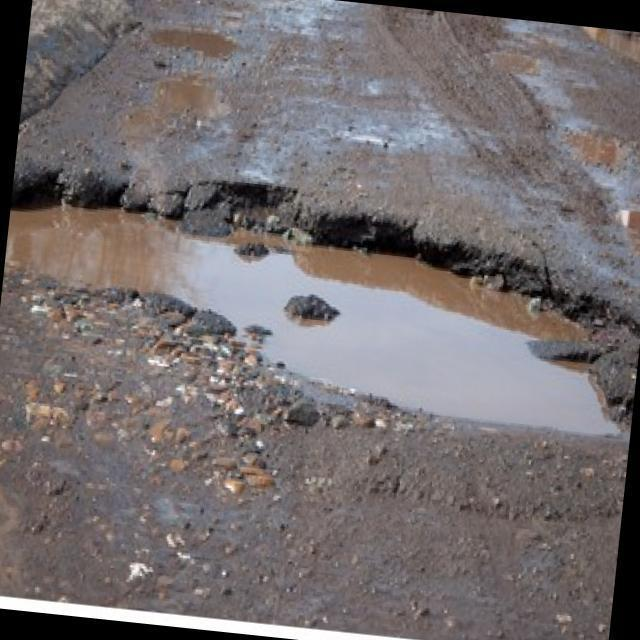pothole: (0, 143, 640, 452)
